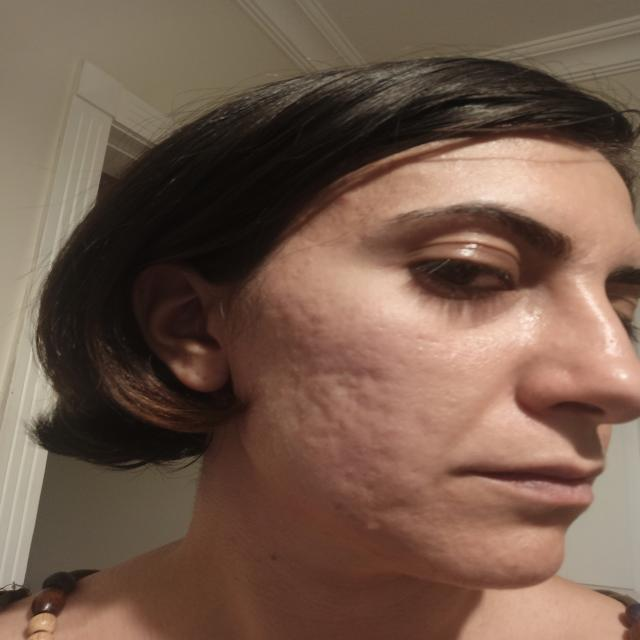pores: (282, 362, 390, 444), (276, 301, 323, 348), (357, 442, 390, 494)
